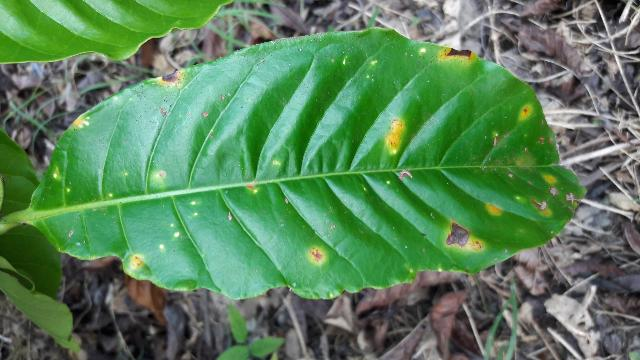rust_level_2: (25, 20, 595, 303)
